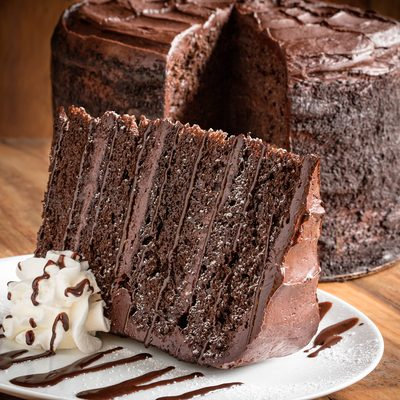sushi: (0, 250, 106, 370)
